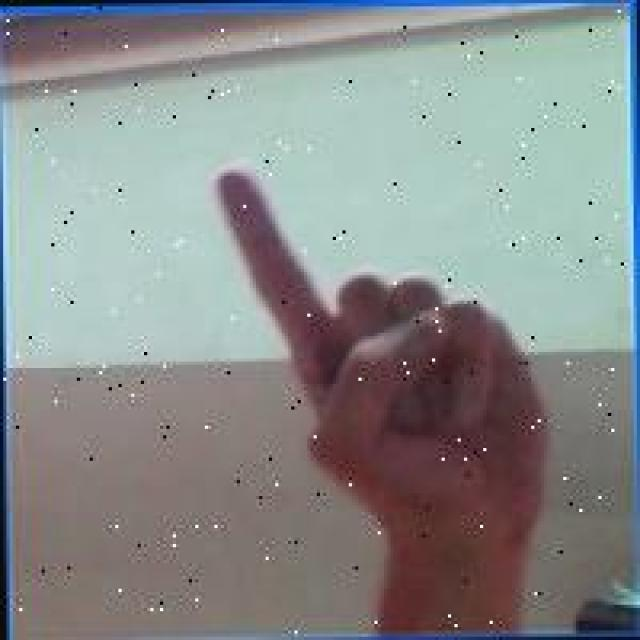Z: (210, 154, 552, 554)
